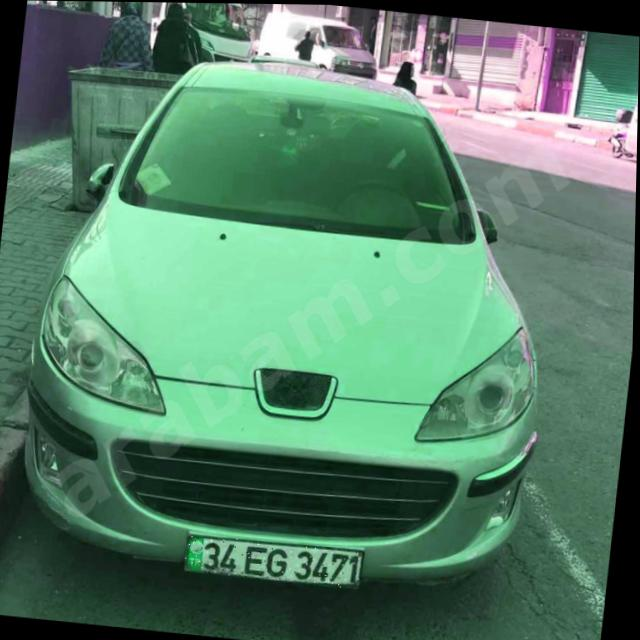license_plate: (185, 533, 365, 588)
